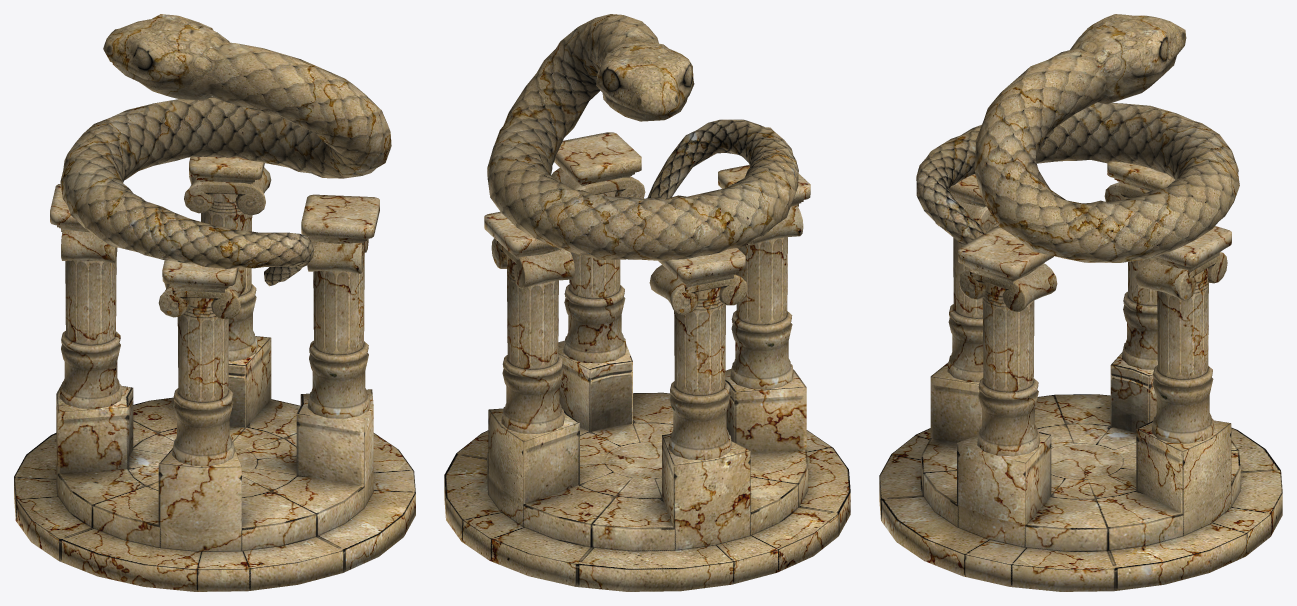
Rendered from snake_statue.glb.
3 views of the same model, side by side, from view 1: azimuth 30°, elevation 25°; view 2: azimuth 150°, elevation 25°; view 3: azimuth 270°, elevation 25° (orthographic).
Visible parts, largest first — view 1: stone, snakelp; view 2: stone, snakelp; view 3: stone, snakelp.
Part boxes in pixels (box(x1,y1,x2,y2)): stone: box(14, 156, 415, 591); snakelp: box(60, 14, 391, 286); stone: box(444, 132, 850, 591); snakelp: box(487, 14, 798, 261); stone: box(879, 161, 1282, 591); snakelp: box(916, 14, 1239, 262).
Bounding box in the file's own units: 7.15 × 9.24 × 7.15.
2 materials, 2 textured.
